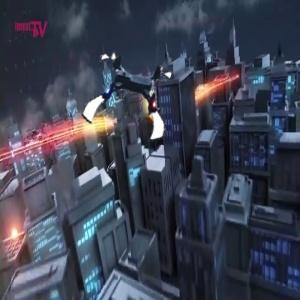drone: (89, 55, 177, 143)
